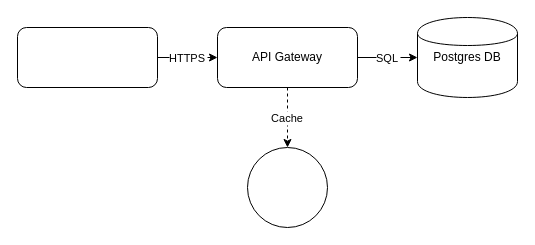
This 535x245 diagram has some shape labels left out. Here are the shapes that lost their labels. From the top down, the centre of each, then its label:
(87,57): Web Frontend
(287,187): Redis Cache
